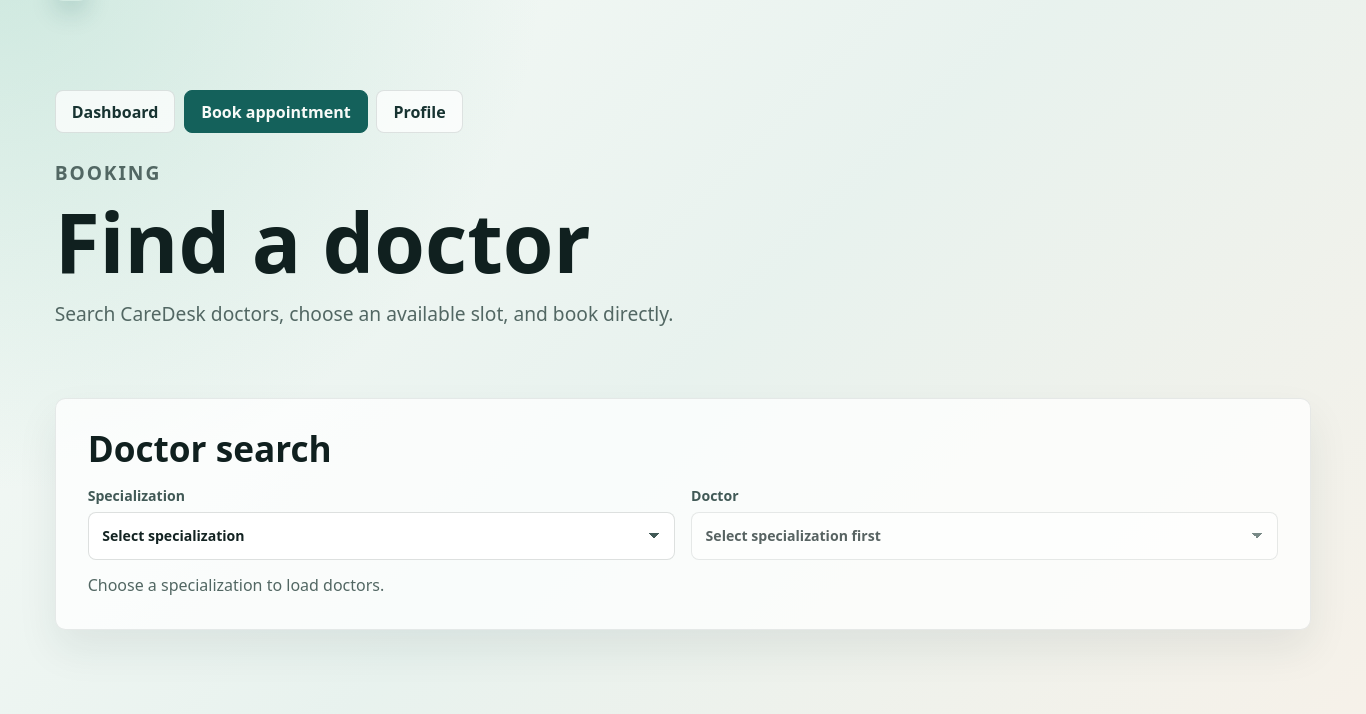
Test: appointment booking workflow › shows an error when the slot was taken in the meantime
Expected: the text "Choose a specialization to load doctors." is shown, [88, 574, 384, 596]
Select "General Medicine" in the dropdown labelled "Specialization": (381, 536) [88, 512, 675, 560]
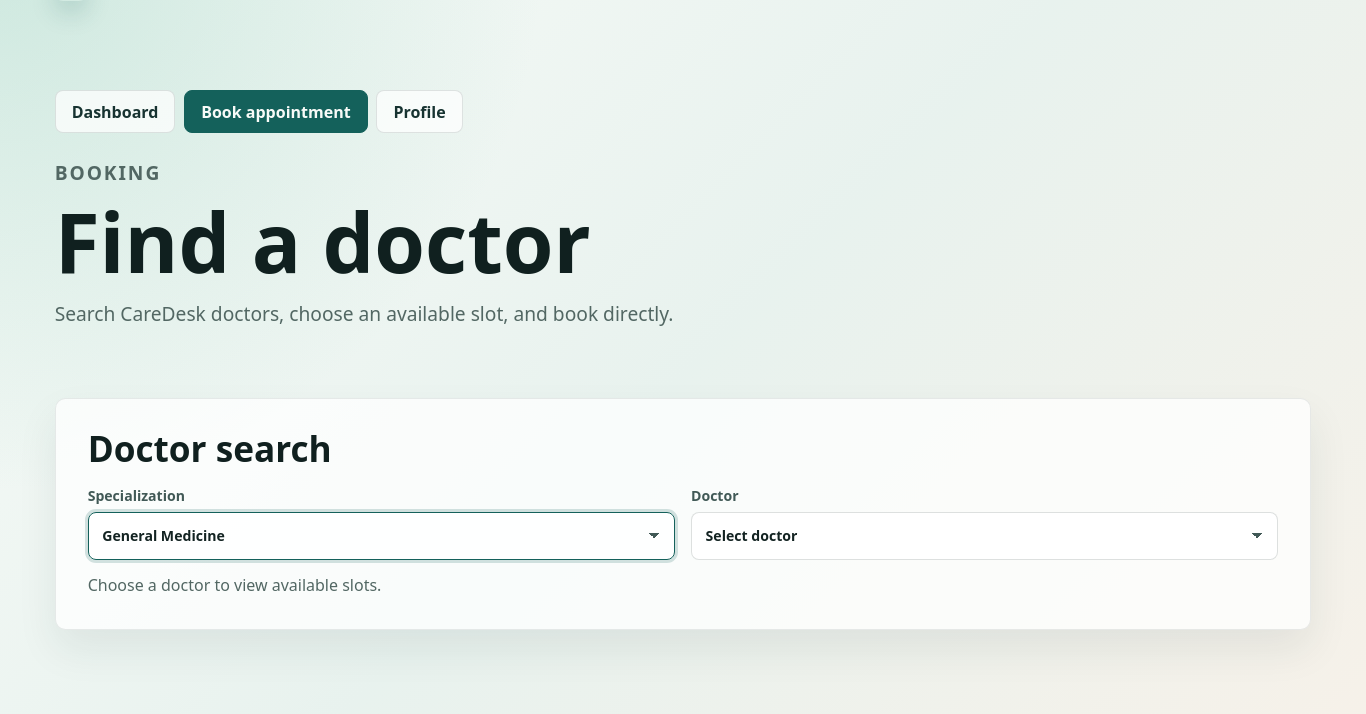
Select "Dr. Julia Weber" in the dropdown labelled "Doctor": (985, 536) [691, 512, 1278, 560]
(page scrolled)
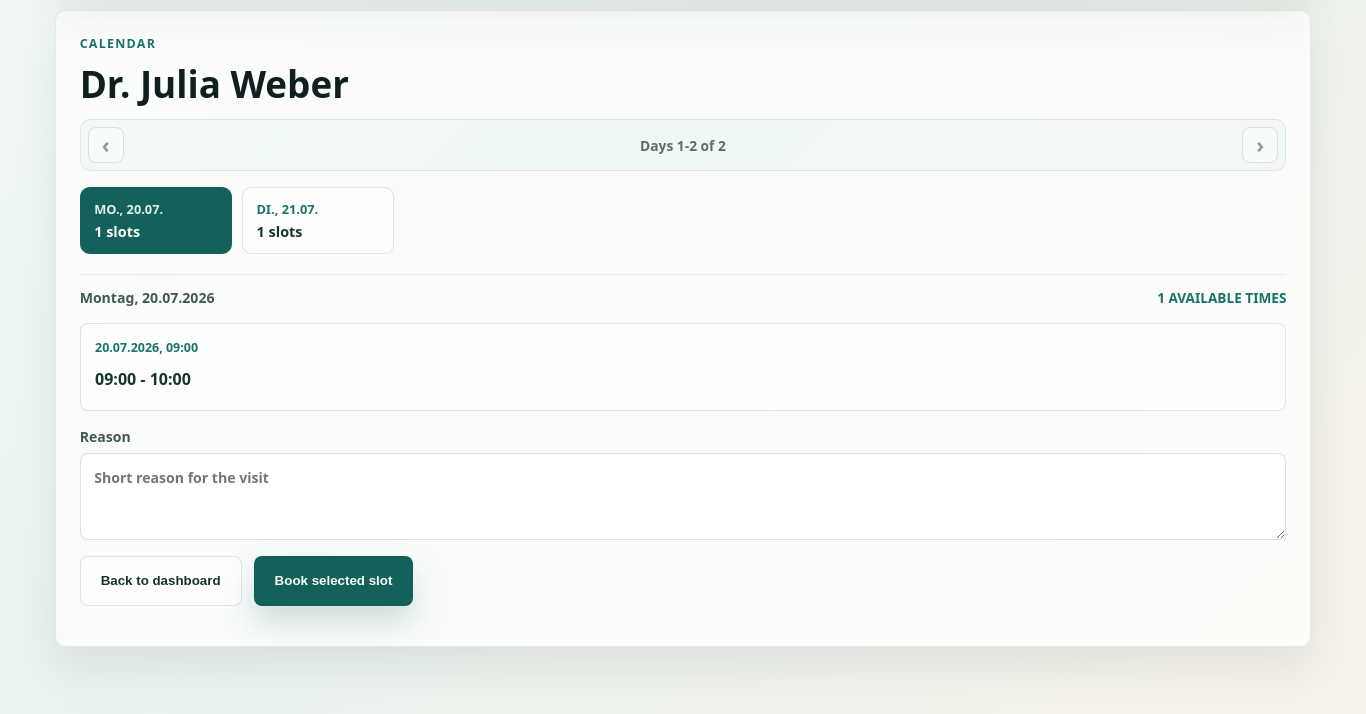
Click the button "20.07.2026, 09:00 09:00 - 10:00": (147, 347) [80, 323, 1286, 411]
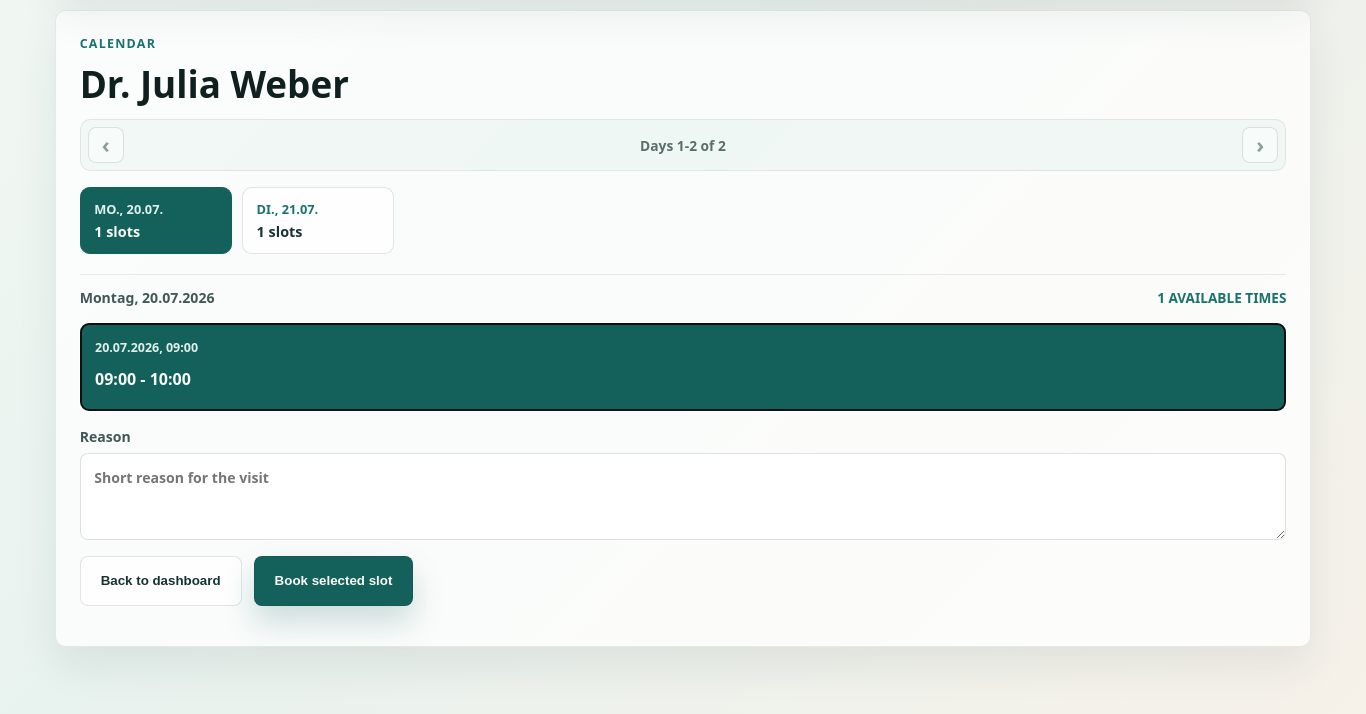
Click the button "Book selected slot": (334, 581) [254, 556, 413, 606]
(page scrolled)
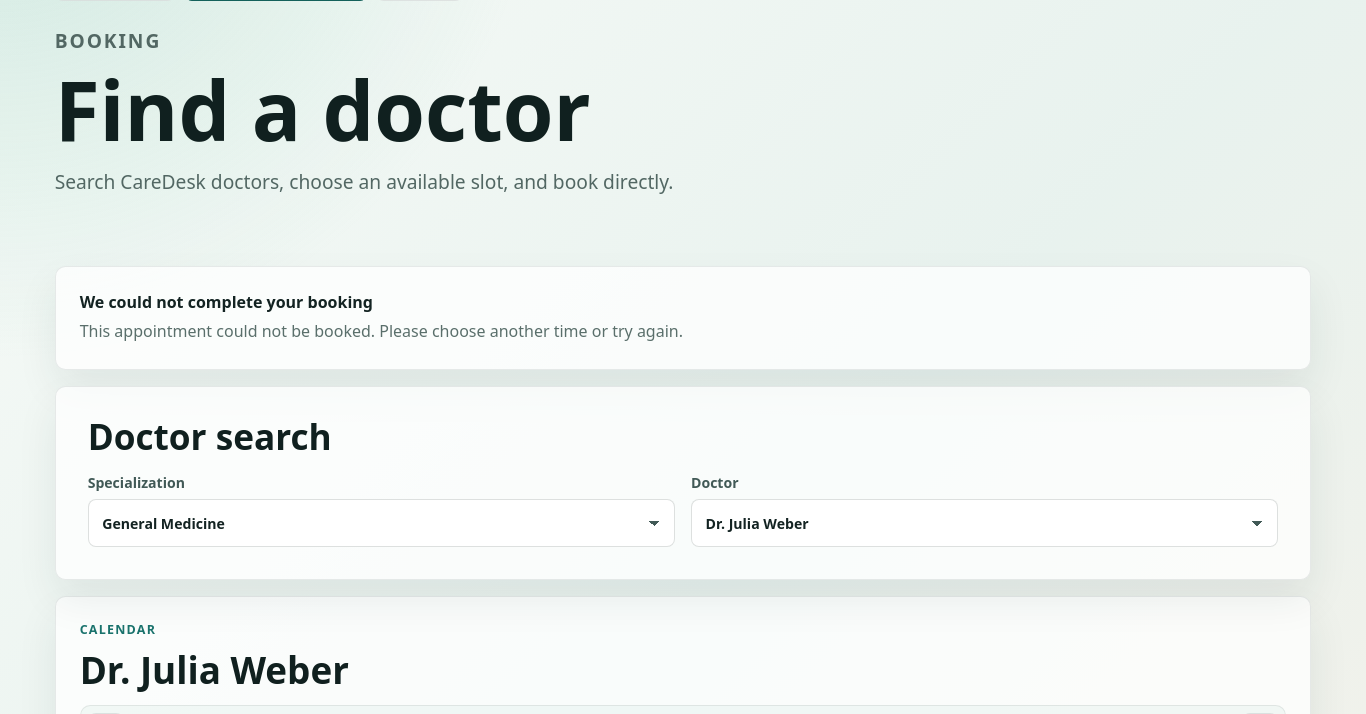
Expected: the text "This appointment could not be booked. Please choose another time or try again." is shown, [80, 320, 683, 342]
